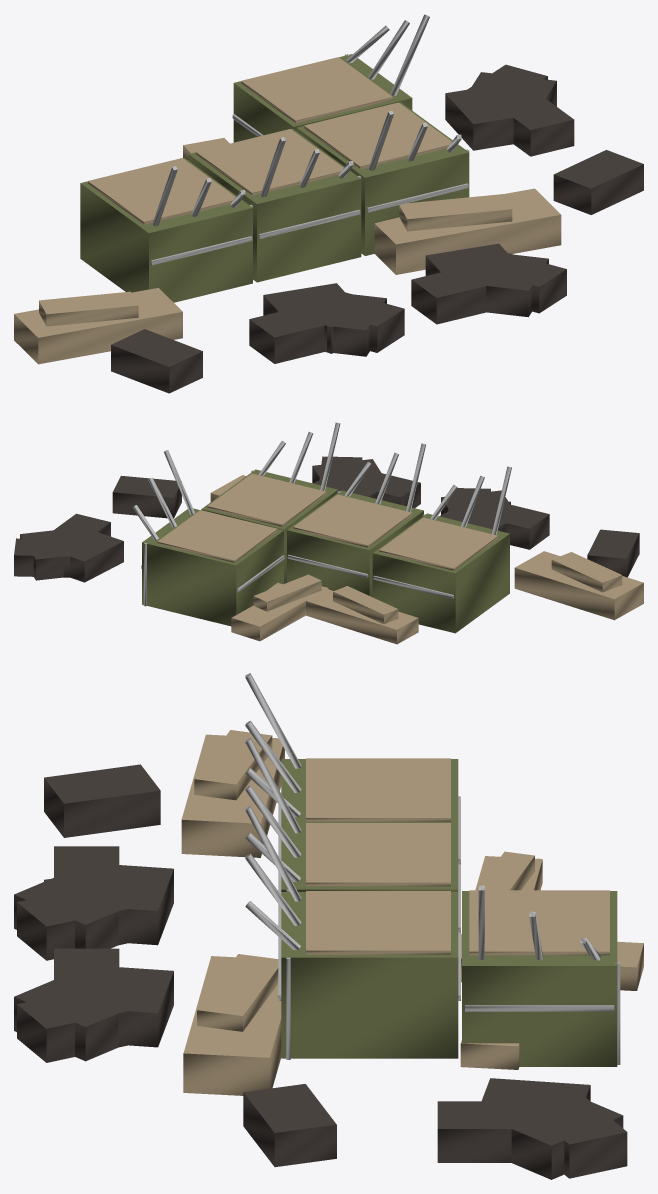
File: SM_HescoRemateEspejo_v0_MallaLimpia_e2_MuyDanado_LOD0.fbx
3 renders of one model, top to bottom at view 1: azimuth 30°, elevation 25°; view 2: azimuth 150°, elevation 25°; view 3: azimuth 270°, elevation 25°, orthographic. The views are drawn at different scales.
Parts seen in each view (by area): view 1: SM_hesco_piezas_v22_LOD0; view 2: SM_hesco_piezas_v22_LOD0; view 3: SM_hesco_piezas_v22_LOD0.
Boxes of the visible parts, box(x1,y1,x2,y2) form: SM_hesco_piezas_v22_LOD0: box(14, 14, 643, 393); SM_hesco_piezas_v22_LOD0: box(14, 422, 643, 644); SM_hesco_piezas_v22_LOD0: box(14, 673, 643, 1179).
Bounding box in the file's own units: 6.71 × 1.48 × 4.34.
